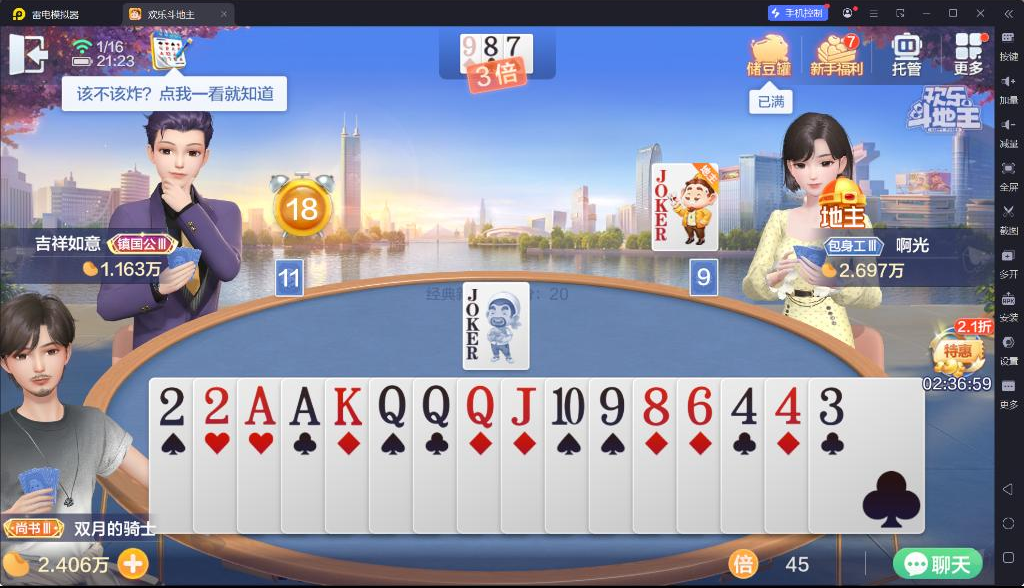A: (286, 382, 322, 428), (244, 383, 278, 427)
J: (506, 383, 539, 429)
JOKER: (653, 167, 671, 215)
K: (330, 383, 364, 428)
Q: (374, 384, 408, 431), (419, 384, 452, 430), (462, 384, 495, 430)
eight: (638, 383, 671, 427), (482, 35, 500, 57)
four: (770, 382, 805, 426), (727, 383, 760, 427)
joker: (464, 286, 482, 333)
nine: (593, 384, 627, 428), (461, 35, 477, 57)
seven: (506, 35, 522, 58)
six: (685, 383, 715, 427)
ten: (550, 384, 586, 428)
three: (815, 383, 845, 427)
two: (200, 383, 232, 429), (157, 386, 187, 429)
